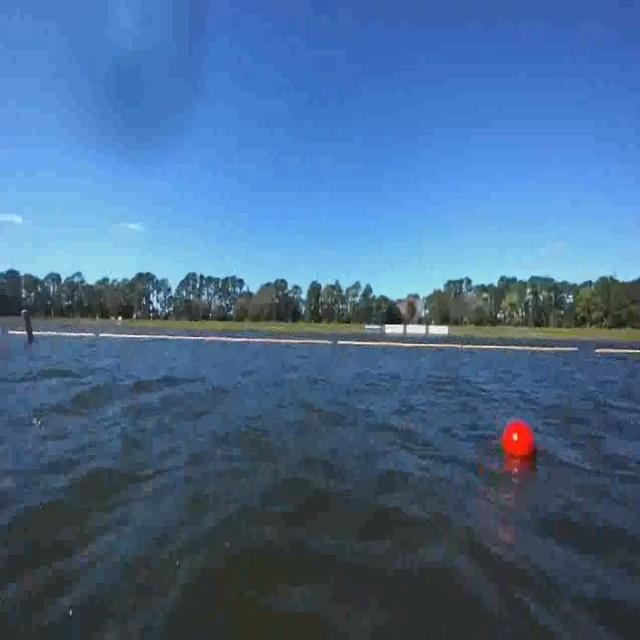red-buoy: (503, 422, 535, 459)
